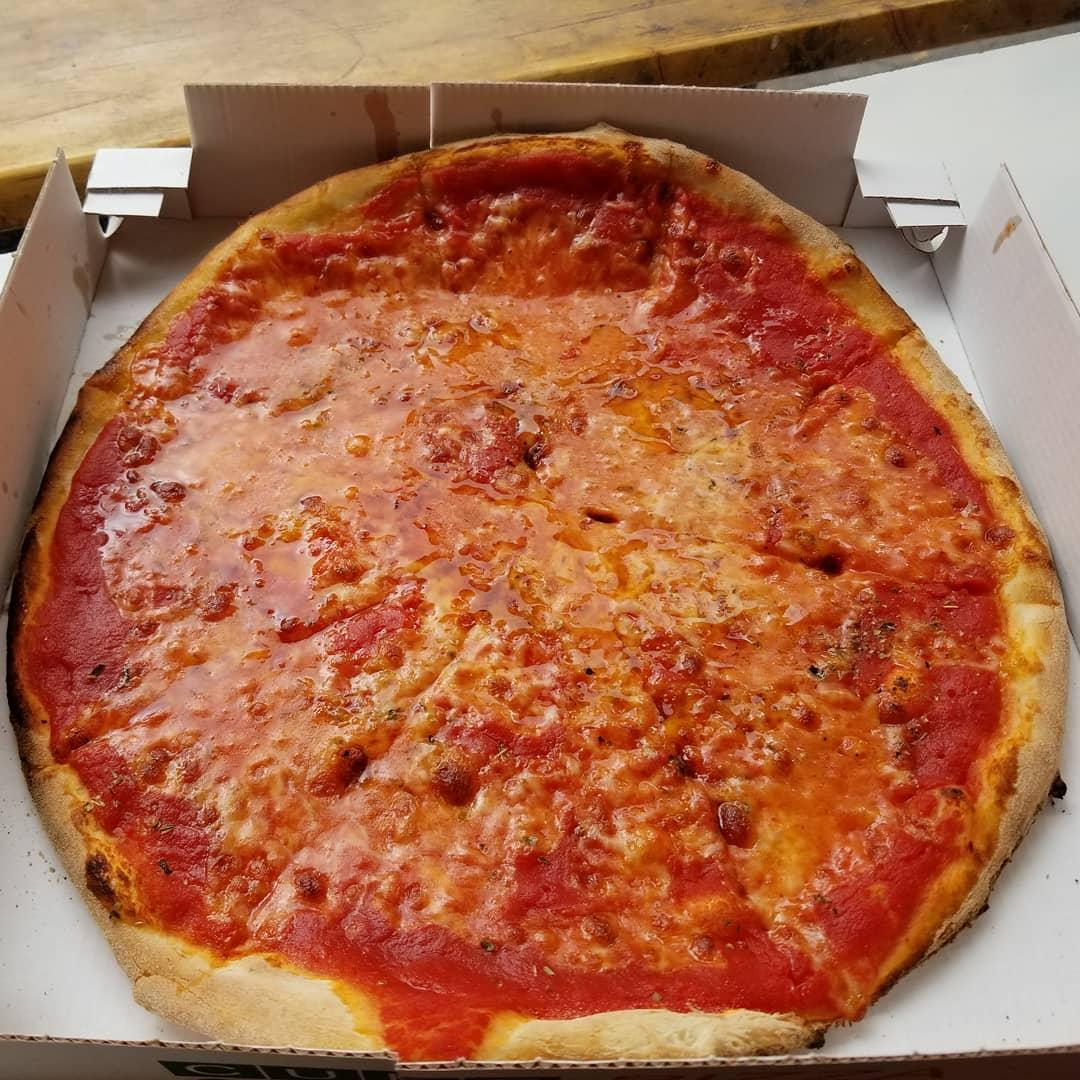Pizza: (7, 118, 1063, 1080)
